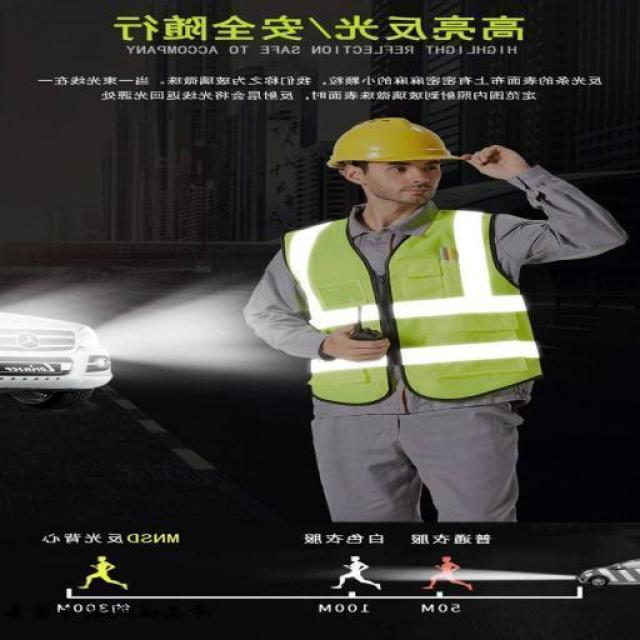face_nomask: (374, 156, 441, 204)
hand_noglove: (320, 318, 390, 367), (460, 137, 524, 185)
head_helmet: (321, 116, 472, 168)
person: (242, 110, 627, 520)
vest: (291, 212, 545, 400)
